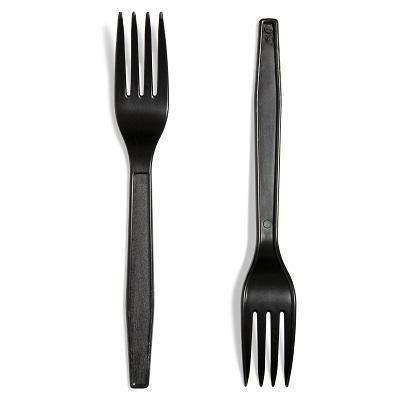Fork: (114, 11, 169, 389), (241, 18, 296, 387)
